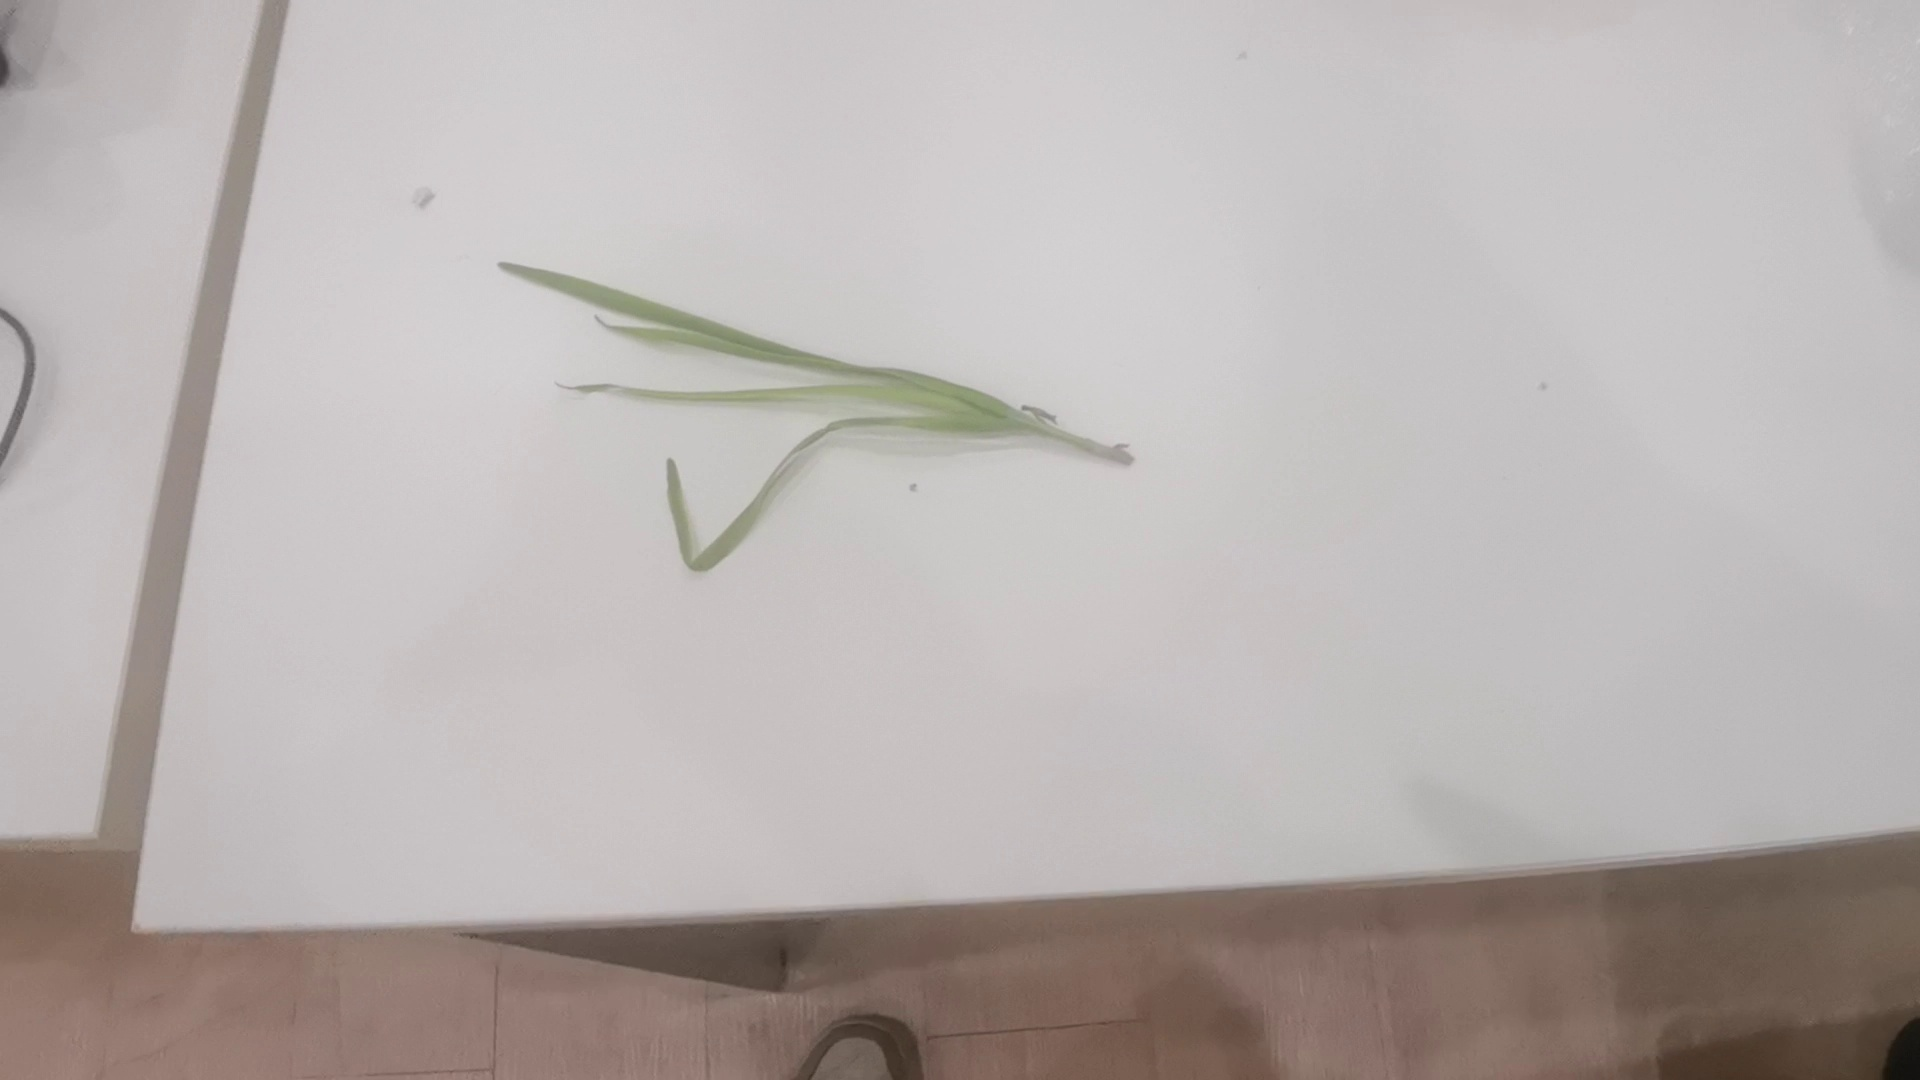chives: (495, 255, 1133, 556)
